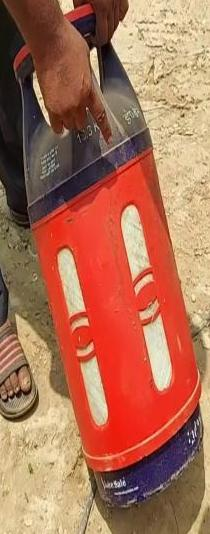cylinder: (0, 1, 210, 534)
